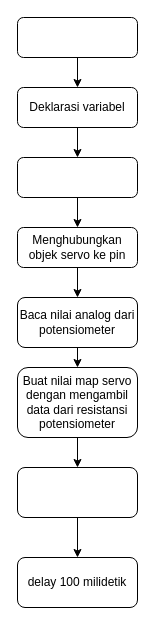
Some shapes in this 155 by 625 pixel diagram are drawn without their labels. The centre of each missing label's shape, as x and y in pixels:
"Memasukkan library kontrol servo" goes at point (77, 37).
"Membuat objek servo" goes at point (77, 177).
"Menggerakkan servo menggunakan data dari map" goes at point (77, 492).
